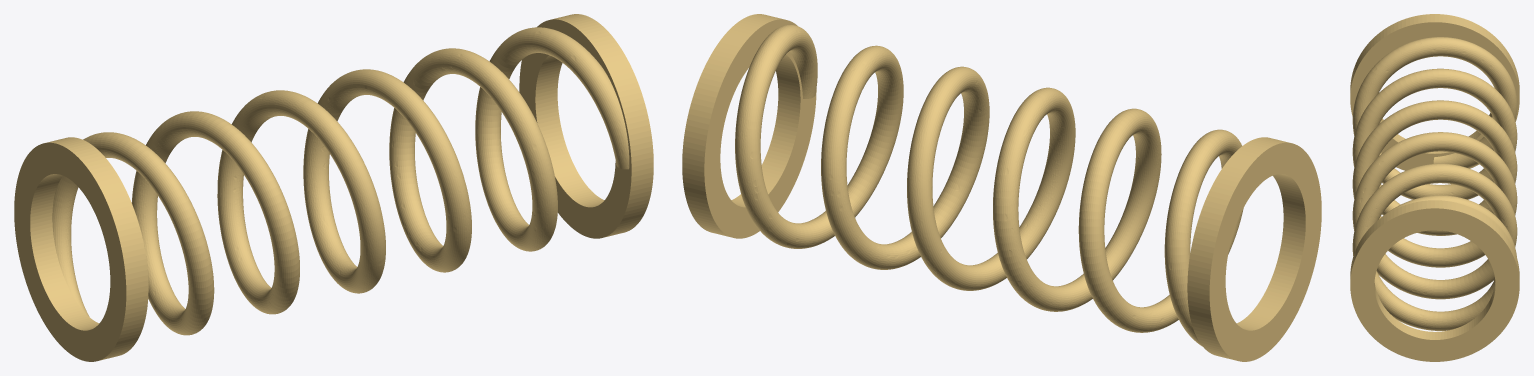
Rendered from iac-return-spring-estimated.glb.
3 views of the same model, side by side, from view 1: azimuth 30°, elevation 25°; view 2: azimuth 150°, elevation 25°; view 3: azimuth 270°, elevation 25° (orthographic). The views are drawn at different scales.
Visible parts, largest first — view 1: world; view 2: world; view 3: world.
Boxes of the visible parts, left/top/right/bottom form: world: left=14, top=14, right=653, bottom=361; world: left=682, top=14, right=1321, bottom=361; world: left=1350, top=14, right=1519, bottom=361.
Size of the model in its own units: 0.019 by 0.007 by 0.007.
